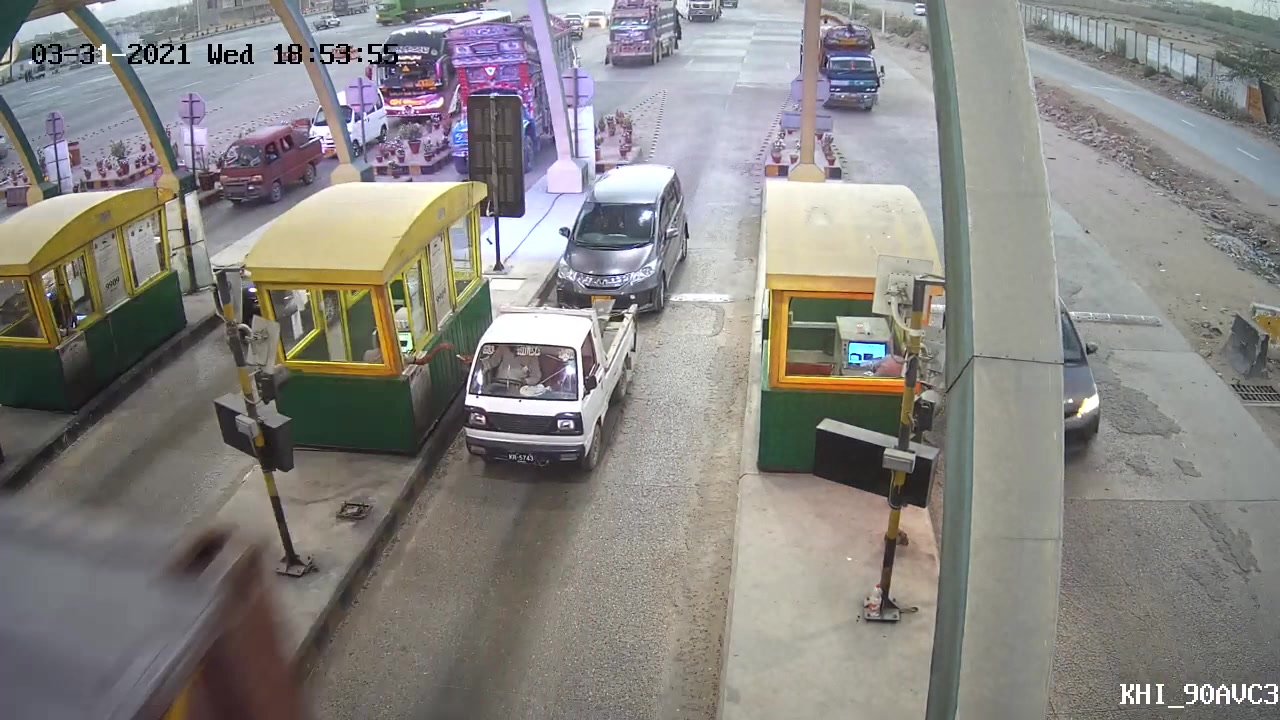F1: (448, 300, 641, 485), (550, 155, 695, 315)
